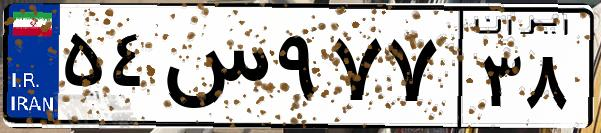3: (475, 38, 525, 113)
4: (110, 28, 158, 98)
5: (57, 26, 110, 100)
7: (385, 28, 445, 110), (330, 28, 385, 110)
8: (525, 38, 570, 115)
9: (270, 28, 330, 110)
س: (158, 20, 270, 120)
